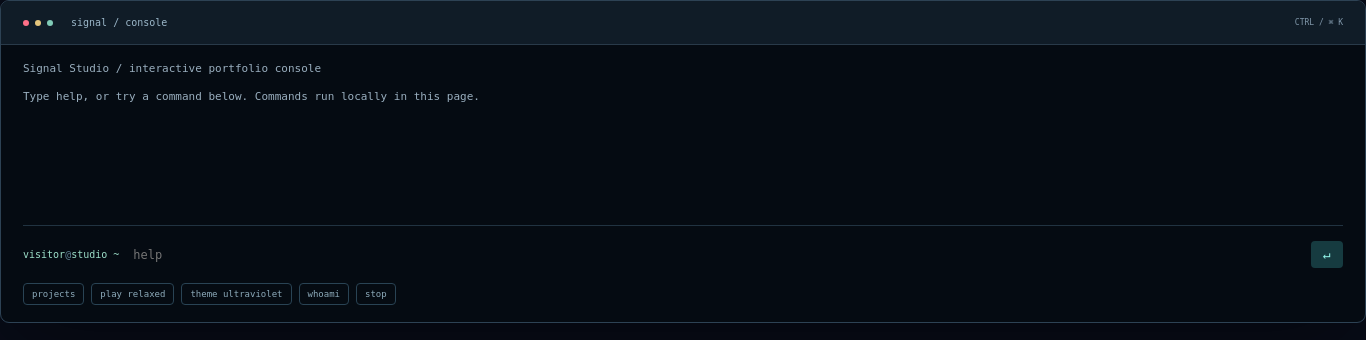
it: audio is opt-in, valid playback reports success, stop pauses it
The width and height of the screenshot is (1366, 340).
In the field named "Terminal command": (715, 254) [131,246,1299,262], type "play relaxed"
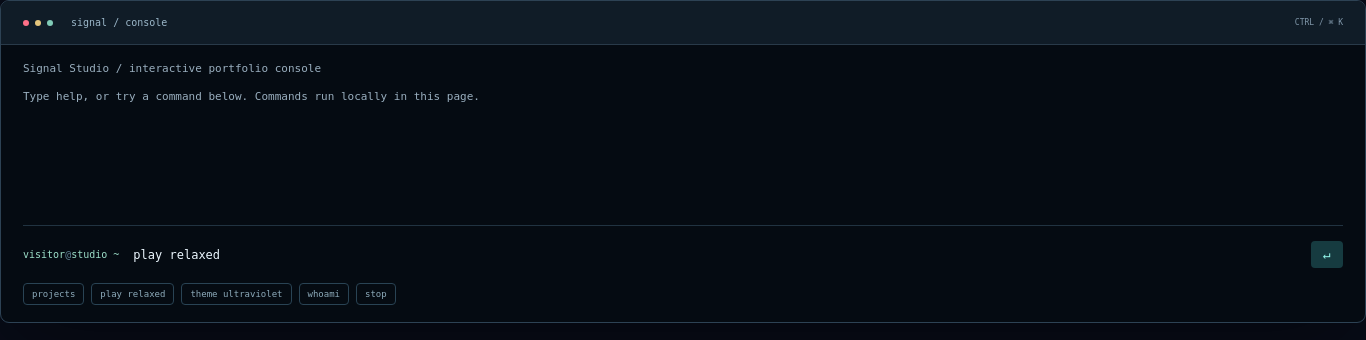
Click the button named "Run command": (1327, 254) [1311,241,1343,268]
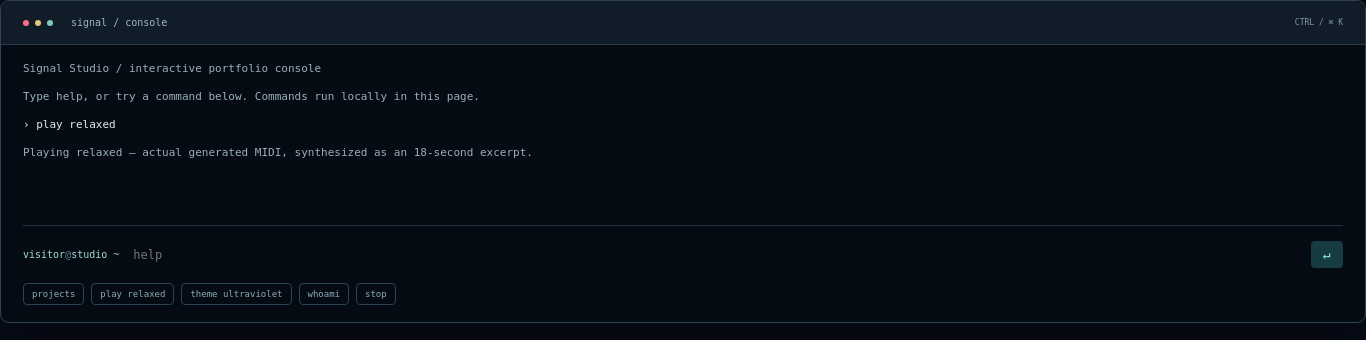
Check: the text "Playing relaxed" is shown, box [23,146,533,159]
In the field named "Terminal command": (715, 254) [131,246,1299,262], type "stop"
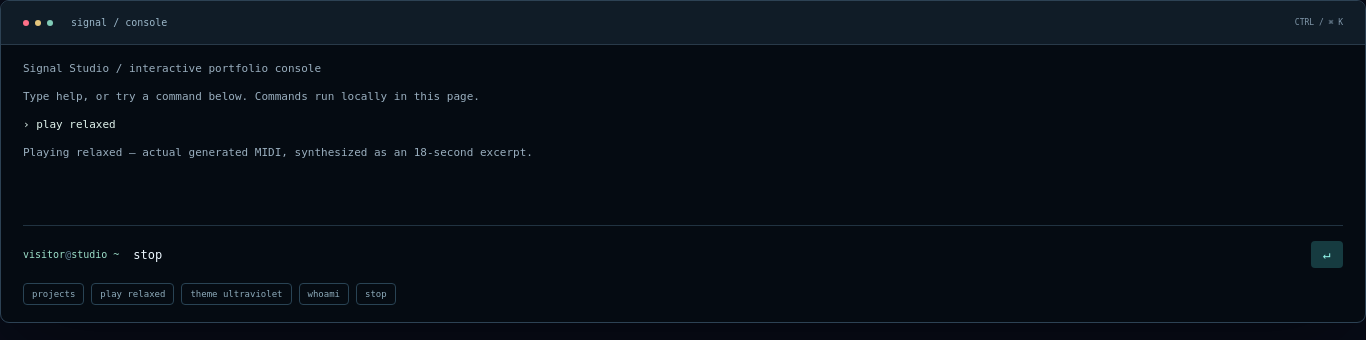
Click the button named "Run command": (1327, 254) [1311,241,1343,268]
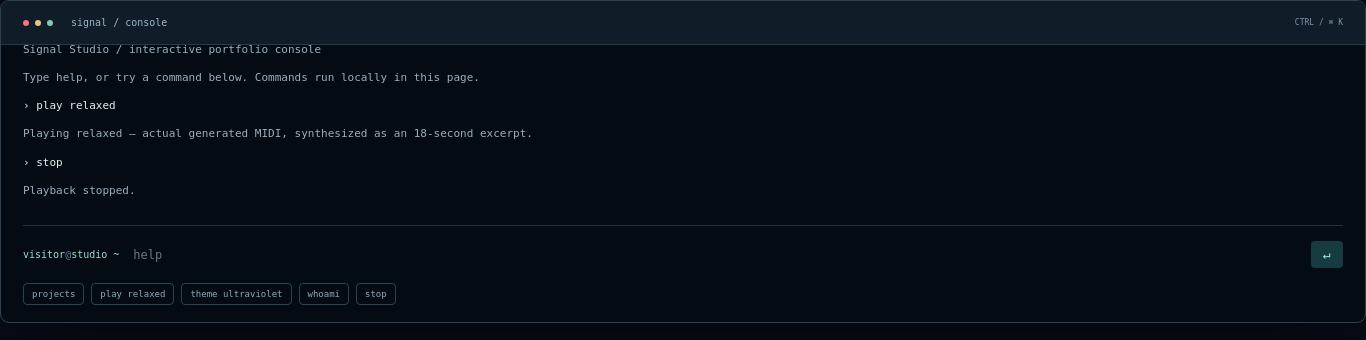
Check: the text "Playback stopped" is shown, box [23,184,136,197]
